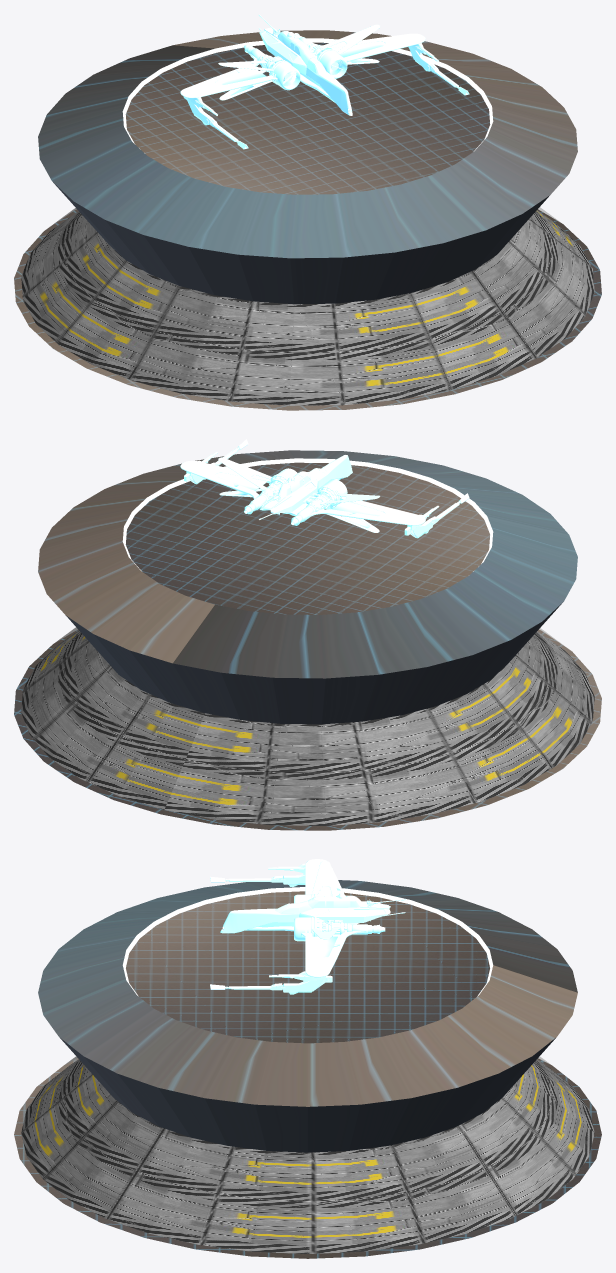
The model's file is meja lagi.glb.
3 views of the same model, one above another, from view 1: azimuth 30°, elevation 25°; view 2: azimuth 150°, elevation 25°; view 3: azimuth 270°, elevation 25° (orthographic).
Parts seen in each view (by area): view 1: Cylinder, chuantou; view 2: Cylinder, chuantou; view 3: Cylinder, chuantou.
Boxes of the visible parts, <box> form: Cylinder: <box>14,30,601,410</box>; chuantou: <box>180,14,469,149</box>; Cylinder: <box>14,450,601,830</box>; chuantou: <box>180,439,469,538</box>; Cylinder: <box>14,880,601,1258</box>; chuantou: <box>210,859,405,994</box>.
Size of the model in its own units: 2.79 by 1.26 by 2.79.
6 materials, 2 textured.
